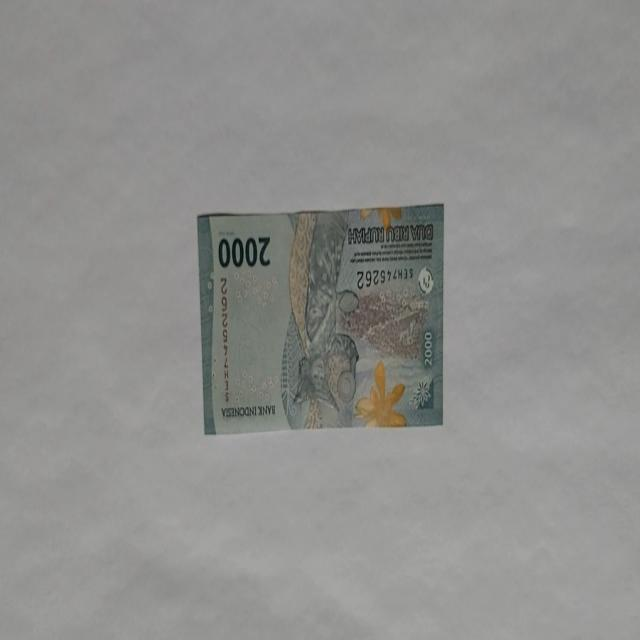dua ribu rupiah: (196, 203, 444, 434), (280, 208, 360, 430)
